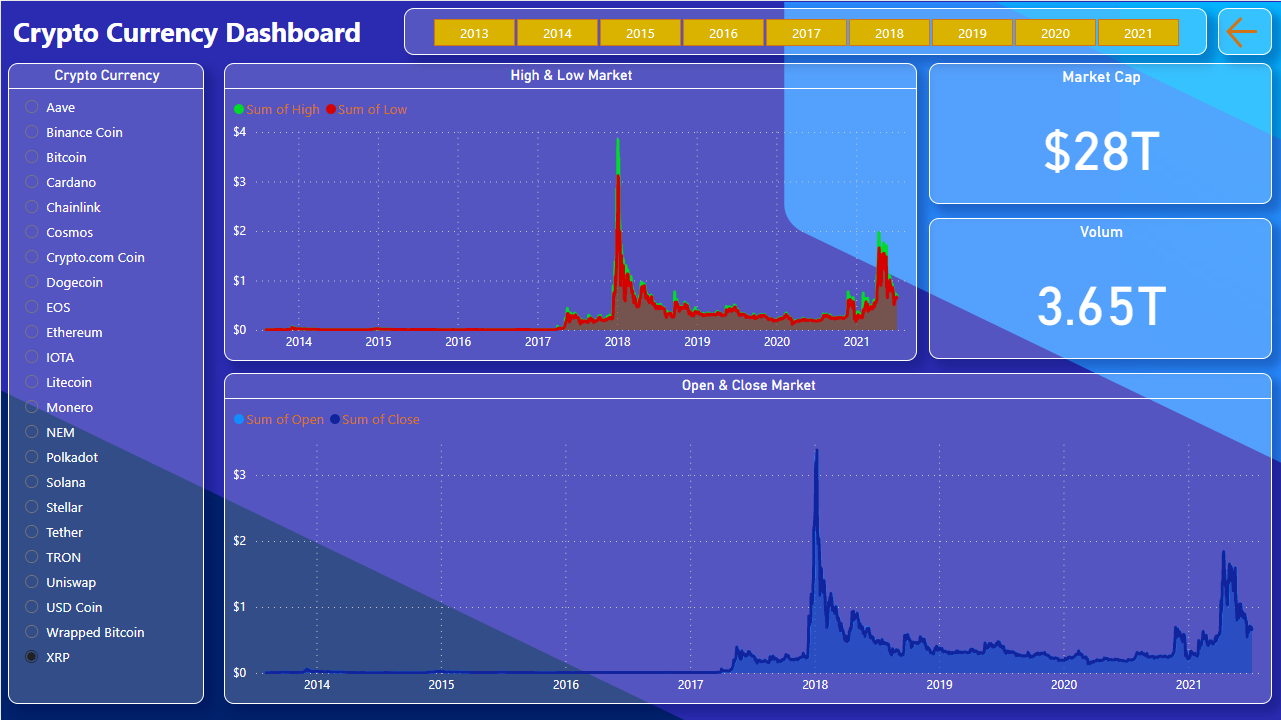

The dashboard page shown, as its layout file describes it:
{"tool":"powerbi","page":{"name":"Page 2","canvas":[1280,720],"ordinal":1},"visuals":[{"type":"slicer","title":"Crypto Currency","fields":{"Values":["Table_archive.Name"]},"box":[6.8,62.2,196.5,641],"z":0},{"type":"textbox","box":[6.8,6.8,363.8,47.7],"z":1000},{"type":"slicer","title":"Cripto Currency","fields":{"Values":["Table_archive.Year"]},"box":[402.6,6.8,803,47.4],"z":2000},{"type":"actionButton","box":[1216.8,6.8,54.1,47.4],"z":3000},{"type":"areaChart","title":"High & Low Market","fields":{"Category":["Table_archive.Date"],"Y":["Sum(Table_archive.High)","Sum(Table_archive.Low)"]},"box":[223.3,62,692.4,297.7],"z":4000},{"type":"card","title":"Market Cap","fields":{"Values":["Sum(Table_archive.Marketcap)"]},"box":[928.1,62,342.8,141],"z":5000},{"type":"card","title":"Volum","fields":{"Values":["Sum(Table_archive.Volume)"]},"box":[928.1,216.5,342.8,141],"z":6000},{"type":"areaChart","title":"Open & Close Market","fields":{"Category":["Table_archive.Date"],"Y":["Sum(Table_archive.Open)","Sum(Table_archive.Close)"]},"box":[223.3,372.2,1047.7,330.4],"z":7000}]}

Visuals, with their boxes in screenshot pixels (x1, y1, x2, y2), scaled from the page's 1280x720 canvas onto the 1281x720 screenshot:
"Crypto Currency" slicer: bbox(7, 62, 203, 703)
textbox: bbox(7, 7, 371, 54)
"Cripto Currency" slicer: bbox(403, 7, 1207, 54)
actionButton: bbox(1218, 7, 1272, 54)
"High & Low Market" areaChart: bbox(223, 62, 916, 360)
"Market Cap" card: bbox(929, 62, 1272, 203)
"Volum" card: bbox(929, 216, 1272, 358)
"Open & Close Market" areaChart: bbox(223, 372, 1272, 703)
